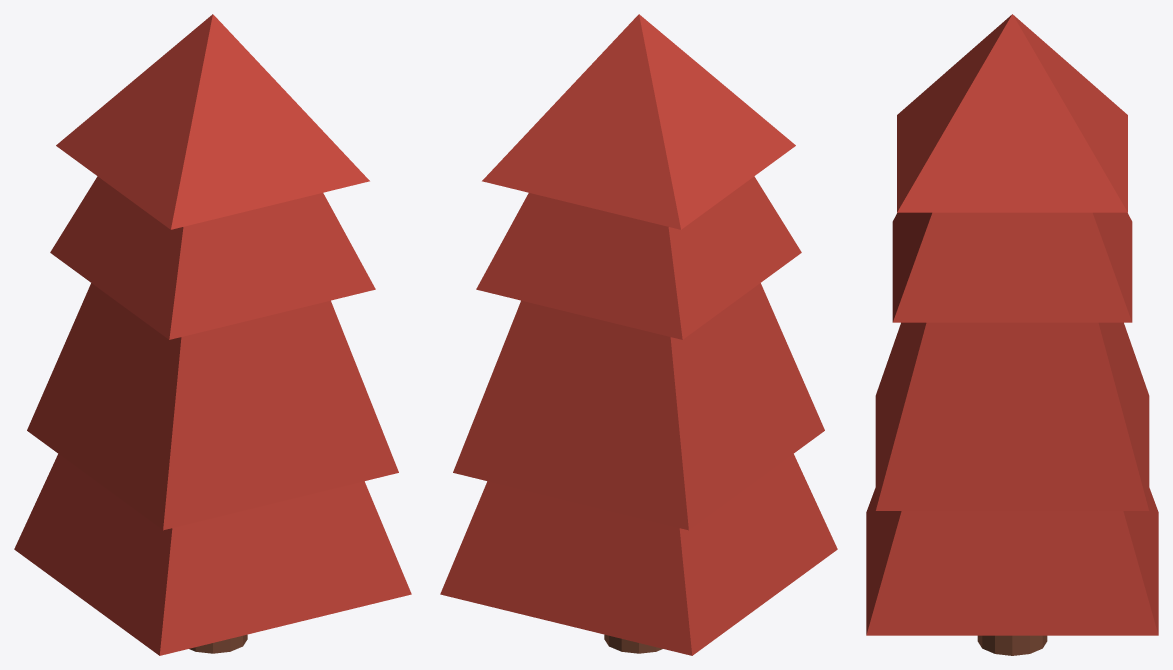
The model's file is Tree_17_summer_red_mat.fbx.
3 views of the same model, side by side, from view 1: azimuth 30°, elevation 25°; view 2: azimuth 150°, elevation 25°; view 3: azimuth 270°, elevation 25° (orthographic).
Parts seen in each view (by area): view 1: Tree_17_summer_red_mat; view 2: Tree_17_summer_red_mat; view 3: Tree_17_summer_red_mat.
Part boxes in pixels (box(x1,y1,x2,y2)): Tree_17_summer_red_mat: box(14, 14, 411, 655); Tree_17_summer_red_mat: box(440, 14, 837, 655); Tree_17_summer_red_mat: box(866, 14, 1158, 655).
Bounding box in the file's own units: 65.5 × 155 × 65.5.
